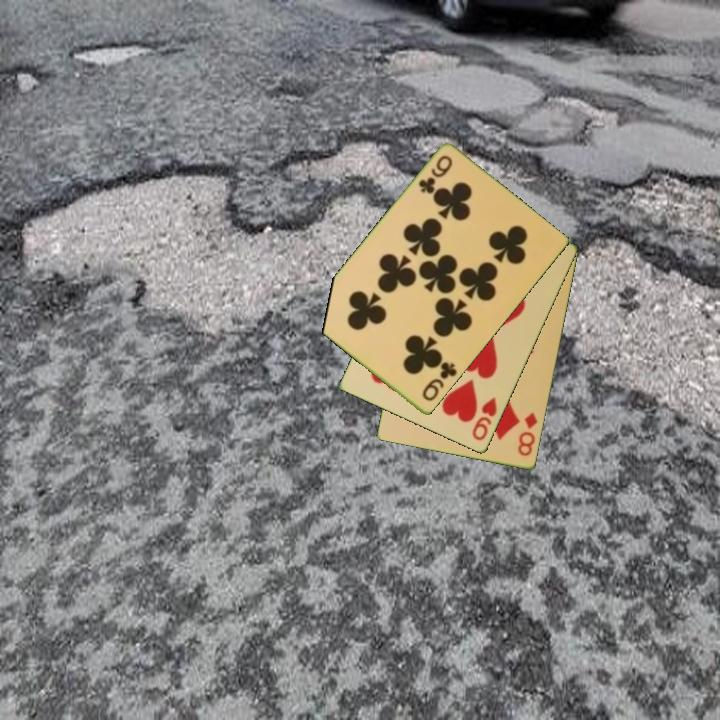8d: (514, 409, 540, 459)
9c: (418, 358, 460, 405), (415, 152, 455, 197)
9h: (469, 394, 500, 444)
